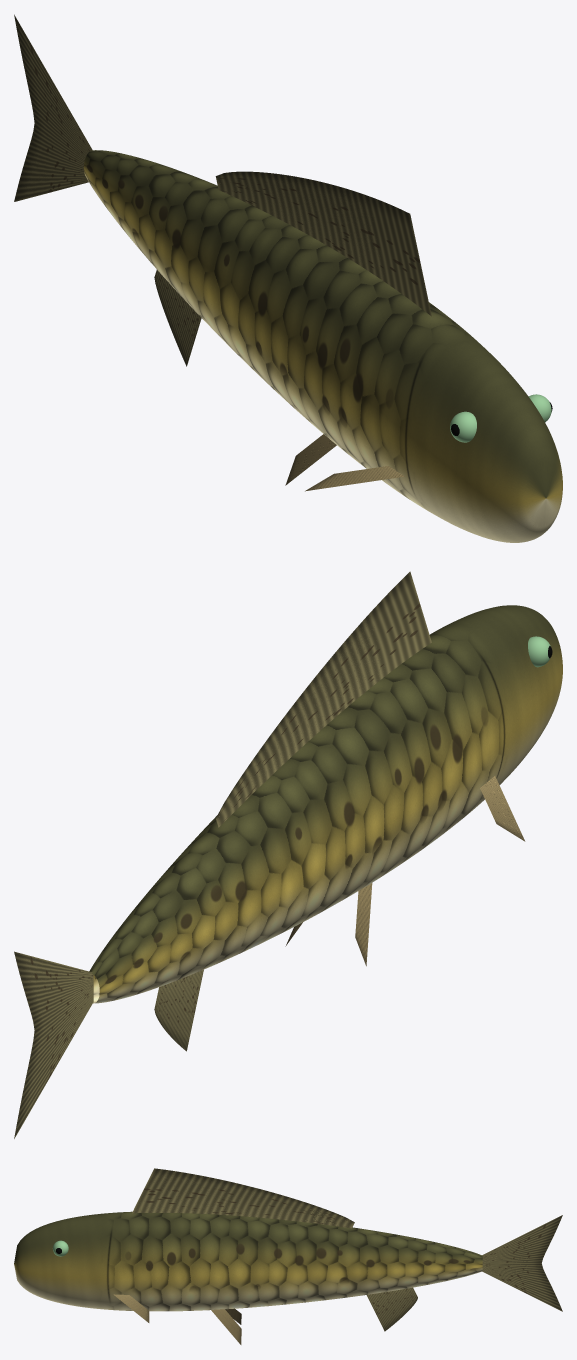
File: ersh.obj
3 views of the same model, one above another, from view 1: azimuth 30°, elevation 25°; view 2: azimuth 150°, elevation 25°; view 3: azimuth 270°, elevation 25° (orthographic). The views are drawn at different scales.
Visible parts, largest first — view 1: body, fin_dorsal0, fin_tail, fin_anal0, fin_pect_R, fin_pelv_R; view 2: body, fin_dorsal0, fin_tail, fin_anal0, fin_pect_R, fin_pelv_R; view 3: body, fin_dorsal0, fin_tail, fin_anal0, fin_pelv_L, fin_pect_L.
Boxes of the visible parts, x1,y1,x2,y2 form: body: (83, 150, 562, 542); fin_dorsal0: (215, 171, 431, 316); fin_tail: (14, 14, 92, 201); fin_anal0: (154, 269, 201, 366); fin_pect_R: (305, 466, 404, 491); fin_pelv_R: (285, 434, 336, 485); body: (89, 605, 562, 1003); fin_dorsal0: (215, 571, 431, 827); fin_tail: (14, 951, 93, 1138); fin_anal0: (154, 969, 203, 1051); fin_pect_R: (480, 776, 525, 841); fin_pelv_R: (355, 883, 372, 966); body: (14, 1211, 482, 1311); fin_dorsal0: (132, 1168, 354, 1228); fin_tail: (482, 1215, 562, 1311); fin_anal0: (366, 1287, 417, 1331); fin_pelv_L: (211, 1309, 241, 1344); fin_pect_L: (113, 1294, 149, 1322).
Size of the model in its own units: 0.0336 by 0.047 by 0.14.
Materials: 5 (3 with a texture image).
